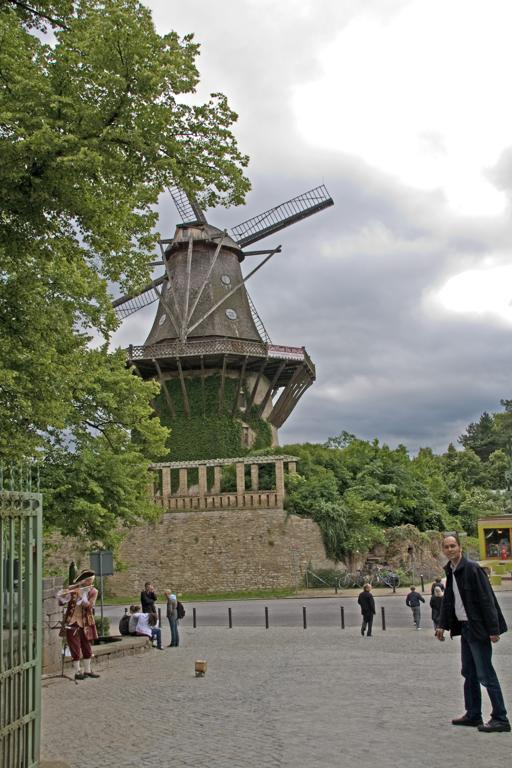non-vehicle: (368, 564, 400, 588), (338, 568, 372, 588)
